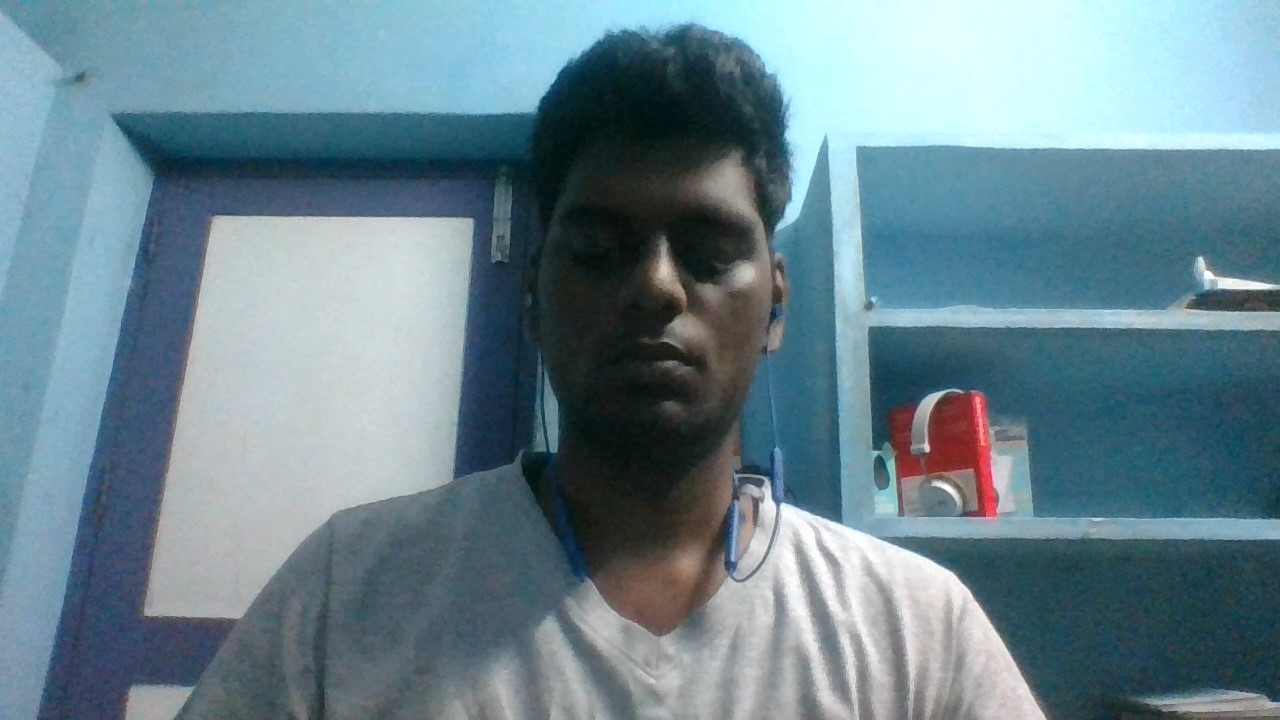person: (173, 17, 1048, 720)
